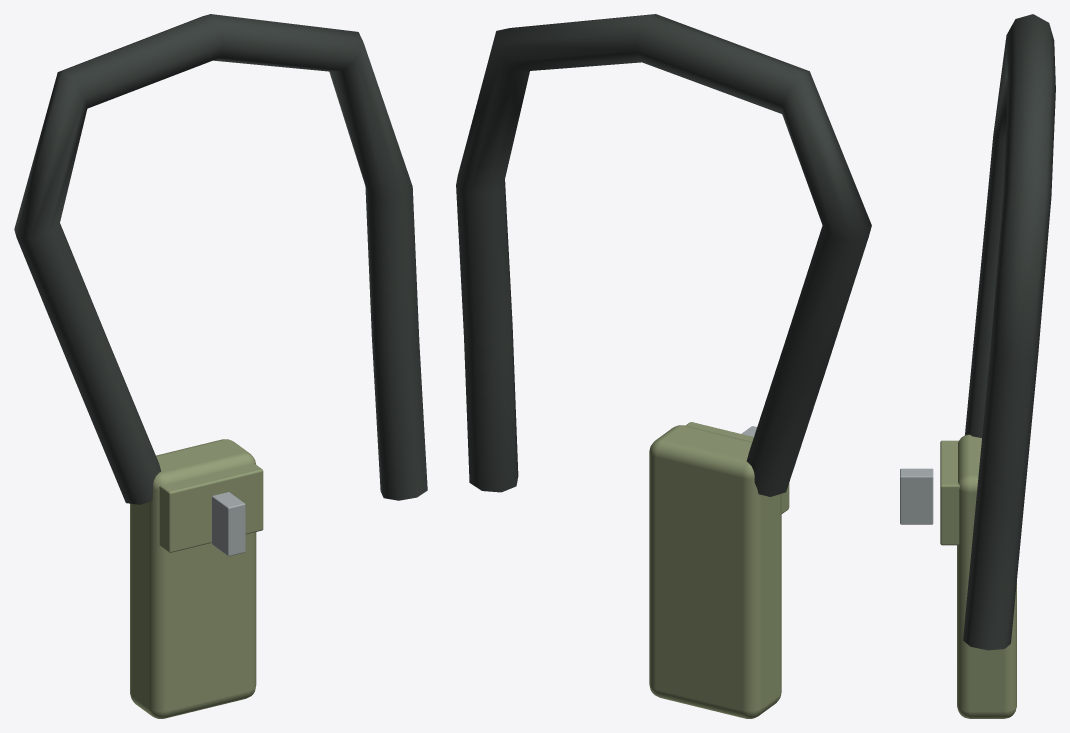
The model's file is backpacks-and-expedition-storage-shoulder-holster-e83d9e68__21089.glb.
3 renders of one model, left to right at view 1: azimuth 30°, elevation 25°; view 2: azimuth 150°, elevation 25°; view 3: azimuth 270°, elevation 25°, orthographic. The views are drawn at different scales.
Visible parts, largest first — view 1: shoulder-holster, flap/canvas; view 2: shoulder-holster; view 3: shoulder-holster, flap/canvas.
Part boxes in pixels (x1=…): shoulder-holster: x1=14, y1=14, x2=427, y2=718; flap/canvas: x1=159, y1=463, x2=263, y2=552; shoulder-holster: x1=456, y1=14, x2=871, y2=718; shoulder-holster: x1=900, y1=14, x2=1055, y2=718; flap/canvas: x1=940, y1=440, x2=959, y2=545.
Bounding box in the file's own units: 0.3356 × 0.538 × 0.1165.
